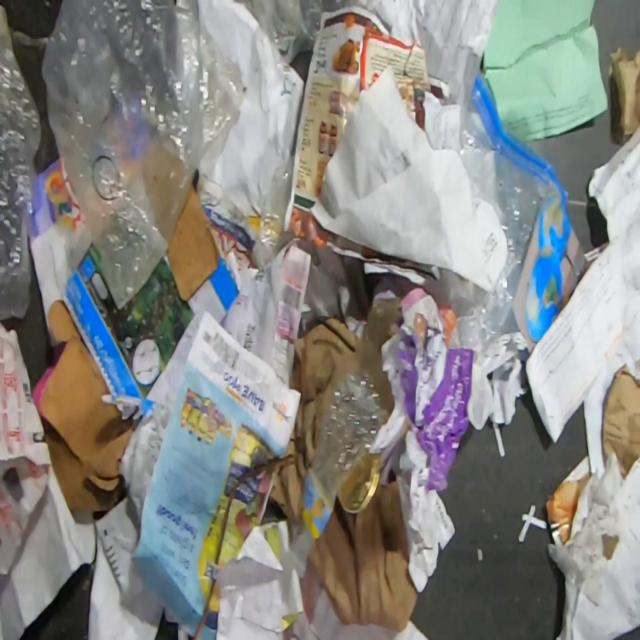cardboard: (29, 183, 241, 514), (268, 297, 405, 523), (309, 483, 419, 633), (512, 188, 588, 354), (602, 368, 640, 479), (606, 45, 640, 144)
metal: (337, 452, 381, 515)
rigid_plastic: (280, 369, 386, 582)
soft_plastic: (40, 0, 244, 311), (456, 65, 565, 365), (0, 3, 44, 323), (231, 0, 354, 66), (248, 153, 296, 271)
